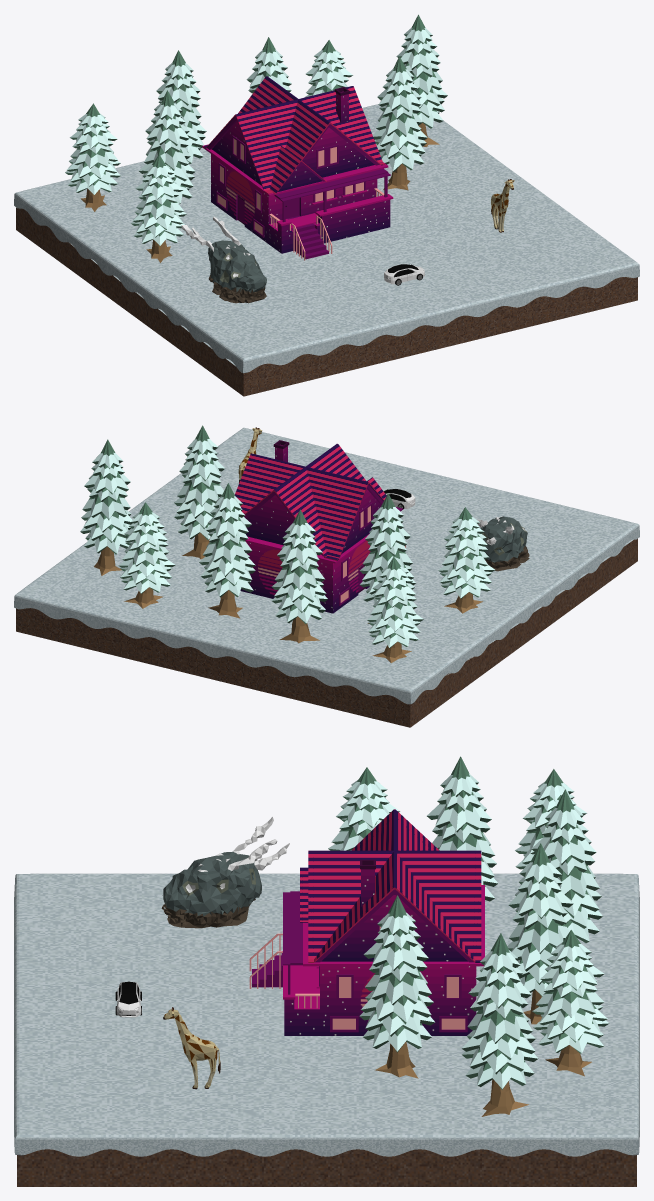
The picture shows the model from 3 angles, top to bottom: view 1: azimuth 30°, elevation 25°; view 2: azimuth 150°, elevation 25°; view 3: azimuth 270°, elevation 25°; orthographic projection. The views are drawn at different scales.
Visible parts, largest first — view 1: Cube.003, Cube.156, OBJRANDOM_METEORITE, ANIMAL_JIRAFA, VEHICLES_TESLA; view 2: Cube.003, Cube.156, OBJRANDOM_METEORITE, VEHICLES_TESLA; view 3: Cube.003, Cube.156, OBJRANDOM_METEORITE, ANIMAL_JIRAFA, VEHICLES_TESLA.
Boxes of the visible parts, x1,y1,x2,y2 form: Cube.003: (14, 14, 639, 396); Cube.156: (202, 76, 393, 260); OBJRANDOM_METEORITE: (181, 216, 266, 303); ANIMAL_JIRAFA: (491, 179, 514, 232); VEHICLES_TESLA: (384, 264, 424, 285); Cube.003: (14, 425, 639, 727); Cube.156: (235, 440, 405, 613); OBJRANDOM_METEORITE: (477, 516, 529, 571); VEHICLES_TESLA: (383, 489, 415, 508); Cube.003: (14, 756, 639, 1186); Cube.156: (249, 809, 484, 1035); OBJRANDOM_METEORITE: (161, 817, 289, 928); ANIMAL_JIRAFA: (163, 1007, 220, 1089); VEHICLES_TESLA: (115, 981, 141, 1017).
Bounding box in the file's own units: 4040 × 1844 × 4040.
33 materials, 5 textured.
